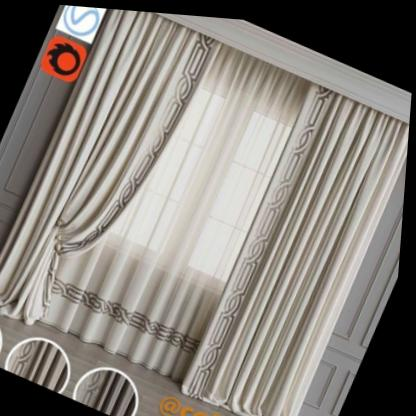Curtains: (185, 79, 411, 416), (0, 7, 222, 327)
Futec frame: (297, 125, 410, 416)
